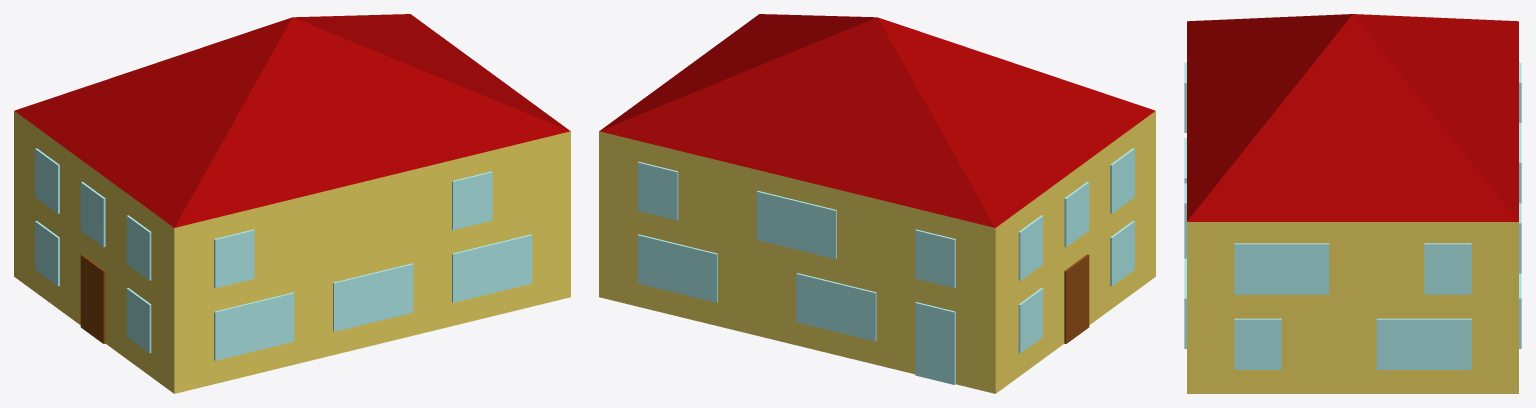
File: house1.fbx
The picture shows the model from 3 angles, left to right: view 1: azimuth 30°, elevation 25°; view 2: azimuth 150°, elevation 25°; view 3: azimuth 270°, elevation 25°; orthographic projection. The views are drawn at different scales.
Visible parts, largest first — view 1: House1; view 2: House1; view 3: House1.
Boxes of the visible parts, box(x1,y1,x2,y2) form: House1: box(14, 14, 570, 393); House1: box(599, 14, 1155, 393); House1: box(1184, 14, 1521, 393).
Bounding box in the file's own units: 2020 × 1300 × 1420.
